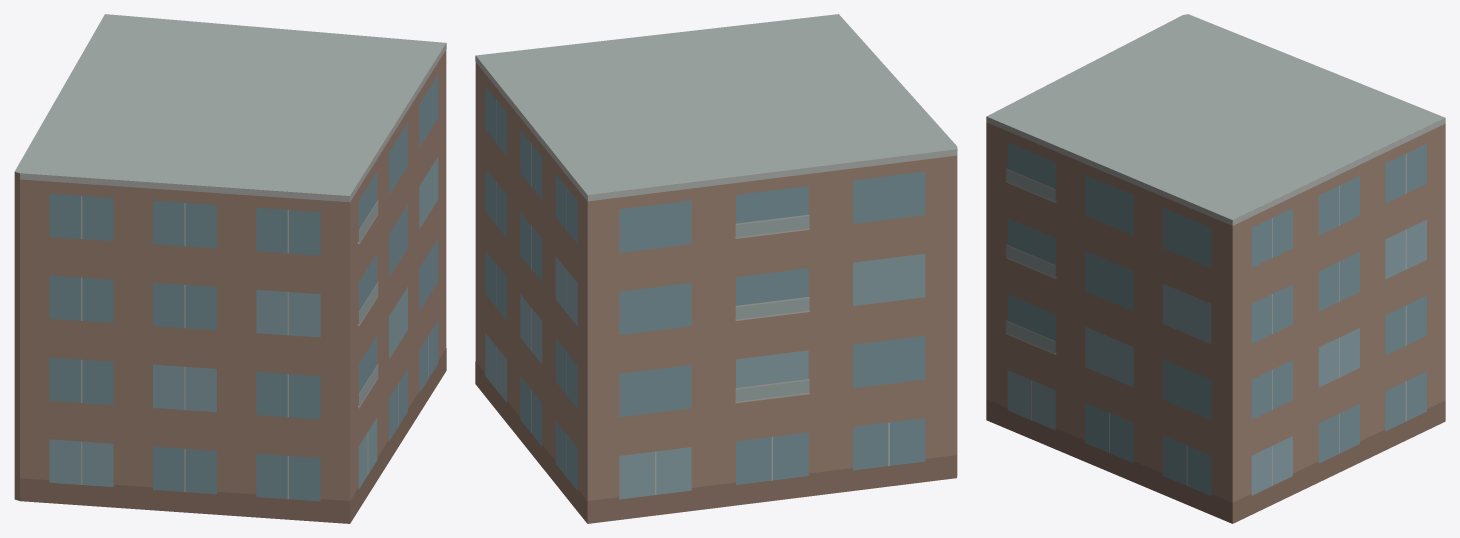
Rendered from survey-upis-32952435.glb.
3 views of the same model, side by side, from view 1: azimuth 30°, elevation 25°; view 2: azimuth 150°, elevation 25°; view 3: azimuth 270°, elevation 25° (orthographic). The views are drawn at different scales.
Visible parts, largest first — view 1: survey-upis-32952435.tmp; view 2: survey-upis-32952435.tmp; view 3: survey-upis-32952435.tmp.
Part boxes in pixels (<box>): survey-upis-32952435.tmp: <box>14,14,446,523</box>; survey-upis-32952435.tmp: <box>475,14,957,523</box>; survey-upis-32952435.tmp: <box>986,14,1445,523</box>.
Bounding box in the file's own units: 18.71 × 12.85 × 17.61.
